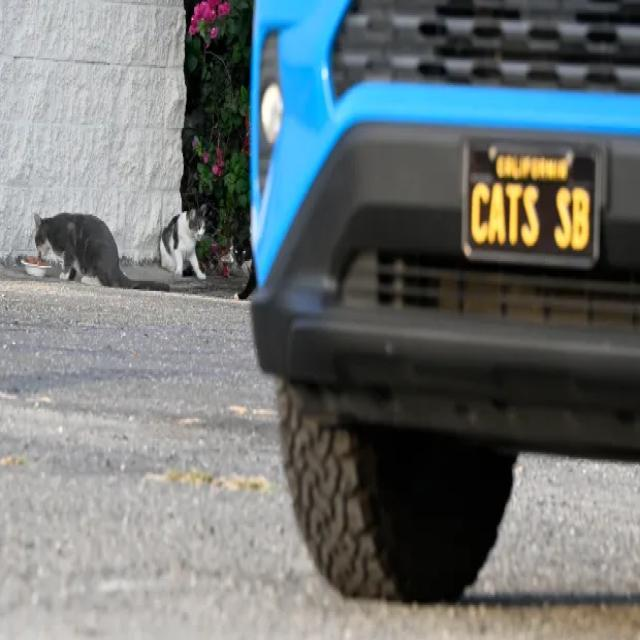cat: (35, 213, 169, 291), (161, 205, 206, 279), (232, 236, 256, 299)
